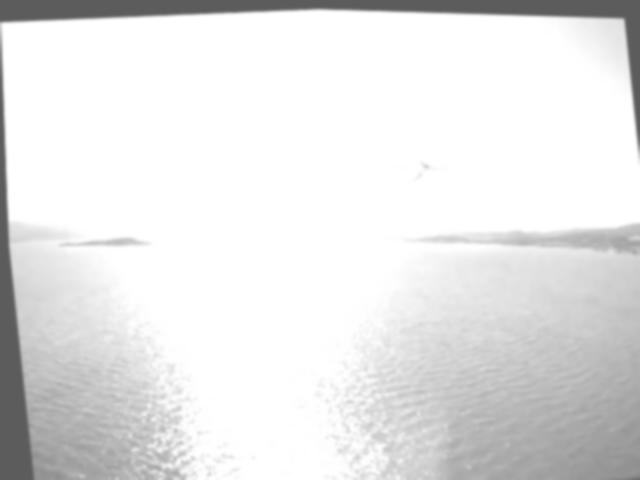hedef: (372, 143, 463, 194)
